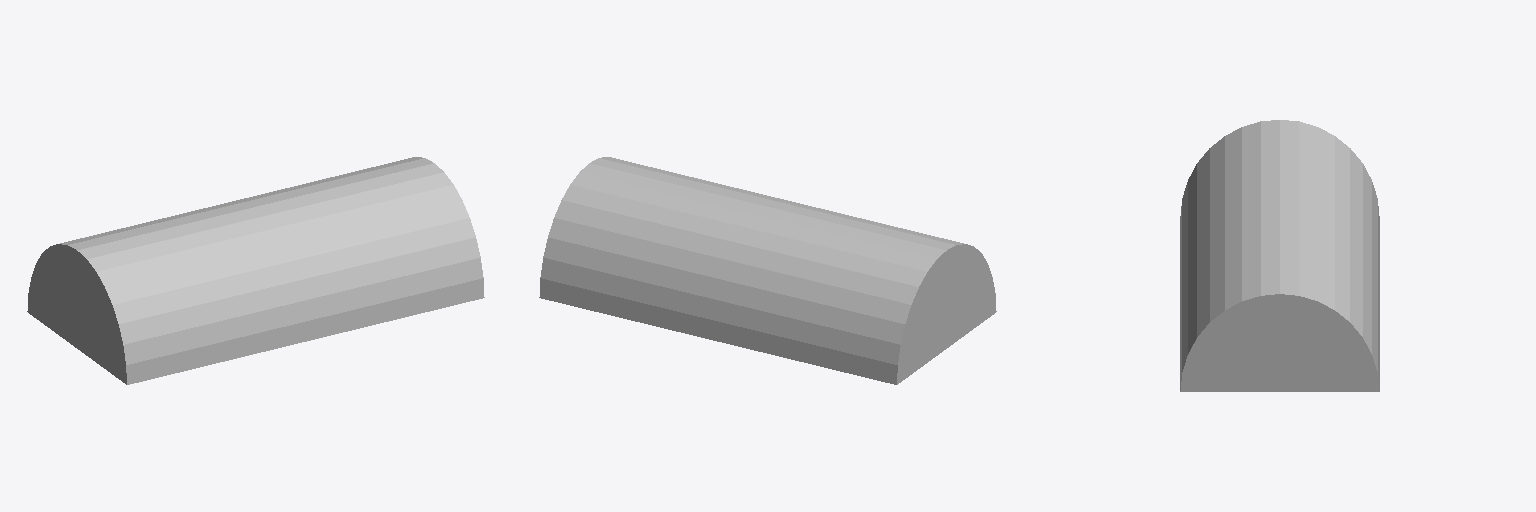
File: Ataud_Cristal.obj
3 renders of one model, left to right at view 1: azimuth 30°, elevation 25°; view 2: azimuth 150°, elevation 25°; view 3: azimuth 270°, elevation 25°, orthographic.
Visible parts, largest first — view 1: Cristal_Cristal_Circle; view 2: Cristal_Cristal_Circle; view 3: Cristal_Cristal_Circle.
Part boxes in pixels (x1,y1,x2,y2): Cristal_Cristal_Circle: (27, 157, 484, 384); Cristal_Cristal_Circle: (539, 157, 996, 384); Cristal_Cristal_Circle: (1180, 120, 1379, 391).
Size of the model in its own units: 3.84 by 1.01 by 1.85.